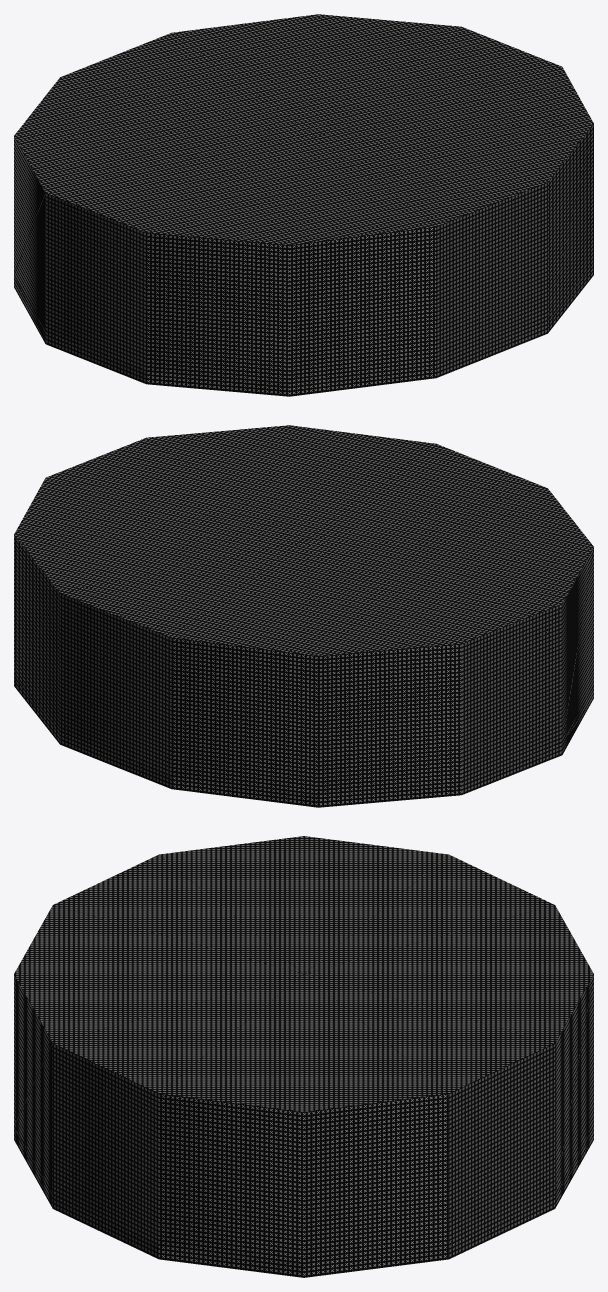
The picture shows the model from 3 angles, top to bottom: view 1: azimuth 30°, elevation 25°; view 2: azimuth 150°, elevation 25°; view 3: azimuth 270°, elevation 25°; orthographic projection. The views are drawn at different scales.
Visible parts, largest first — view 1: Base; view 2: Base; view 3: Base.
Part boxes in pixels (x1,y1,x2,y2): Base: (14,14,593,396); Base: (14,425,593,807); Base: (14,836,593,1277).
Bounding box in the file's own units: 133 × 37.3 × 118.
Materials: 1 (1 with a texture image).
